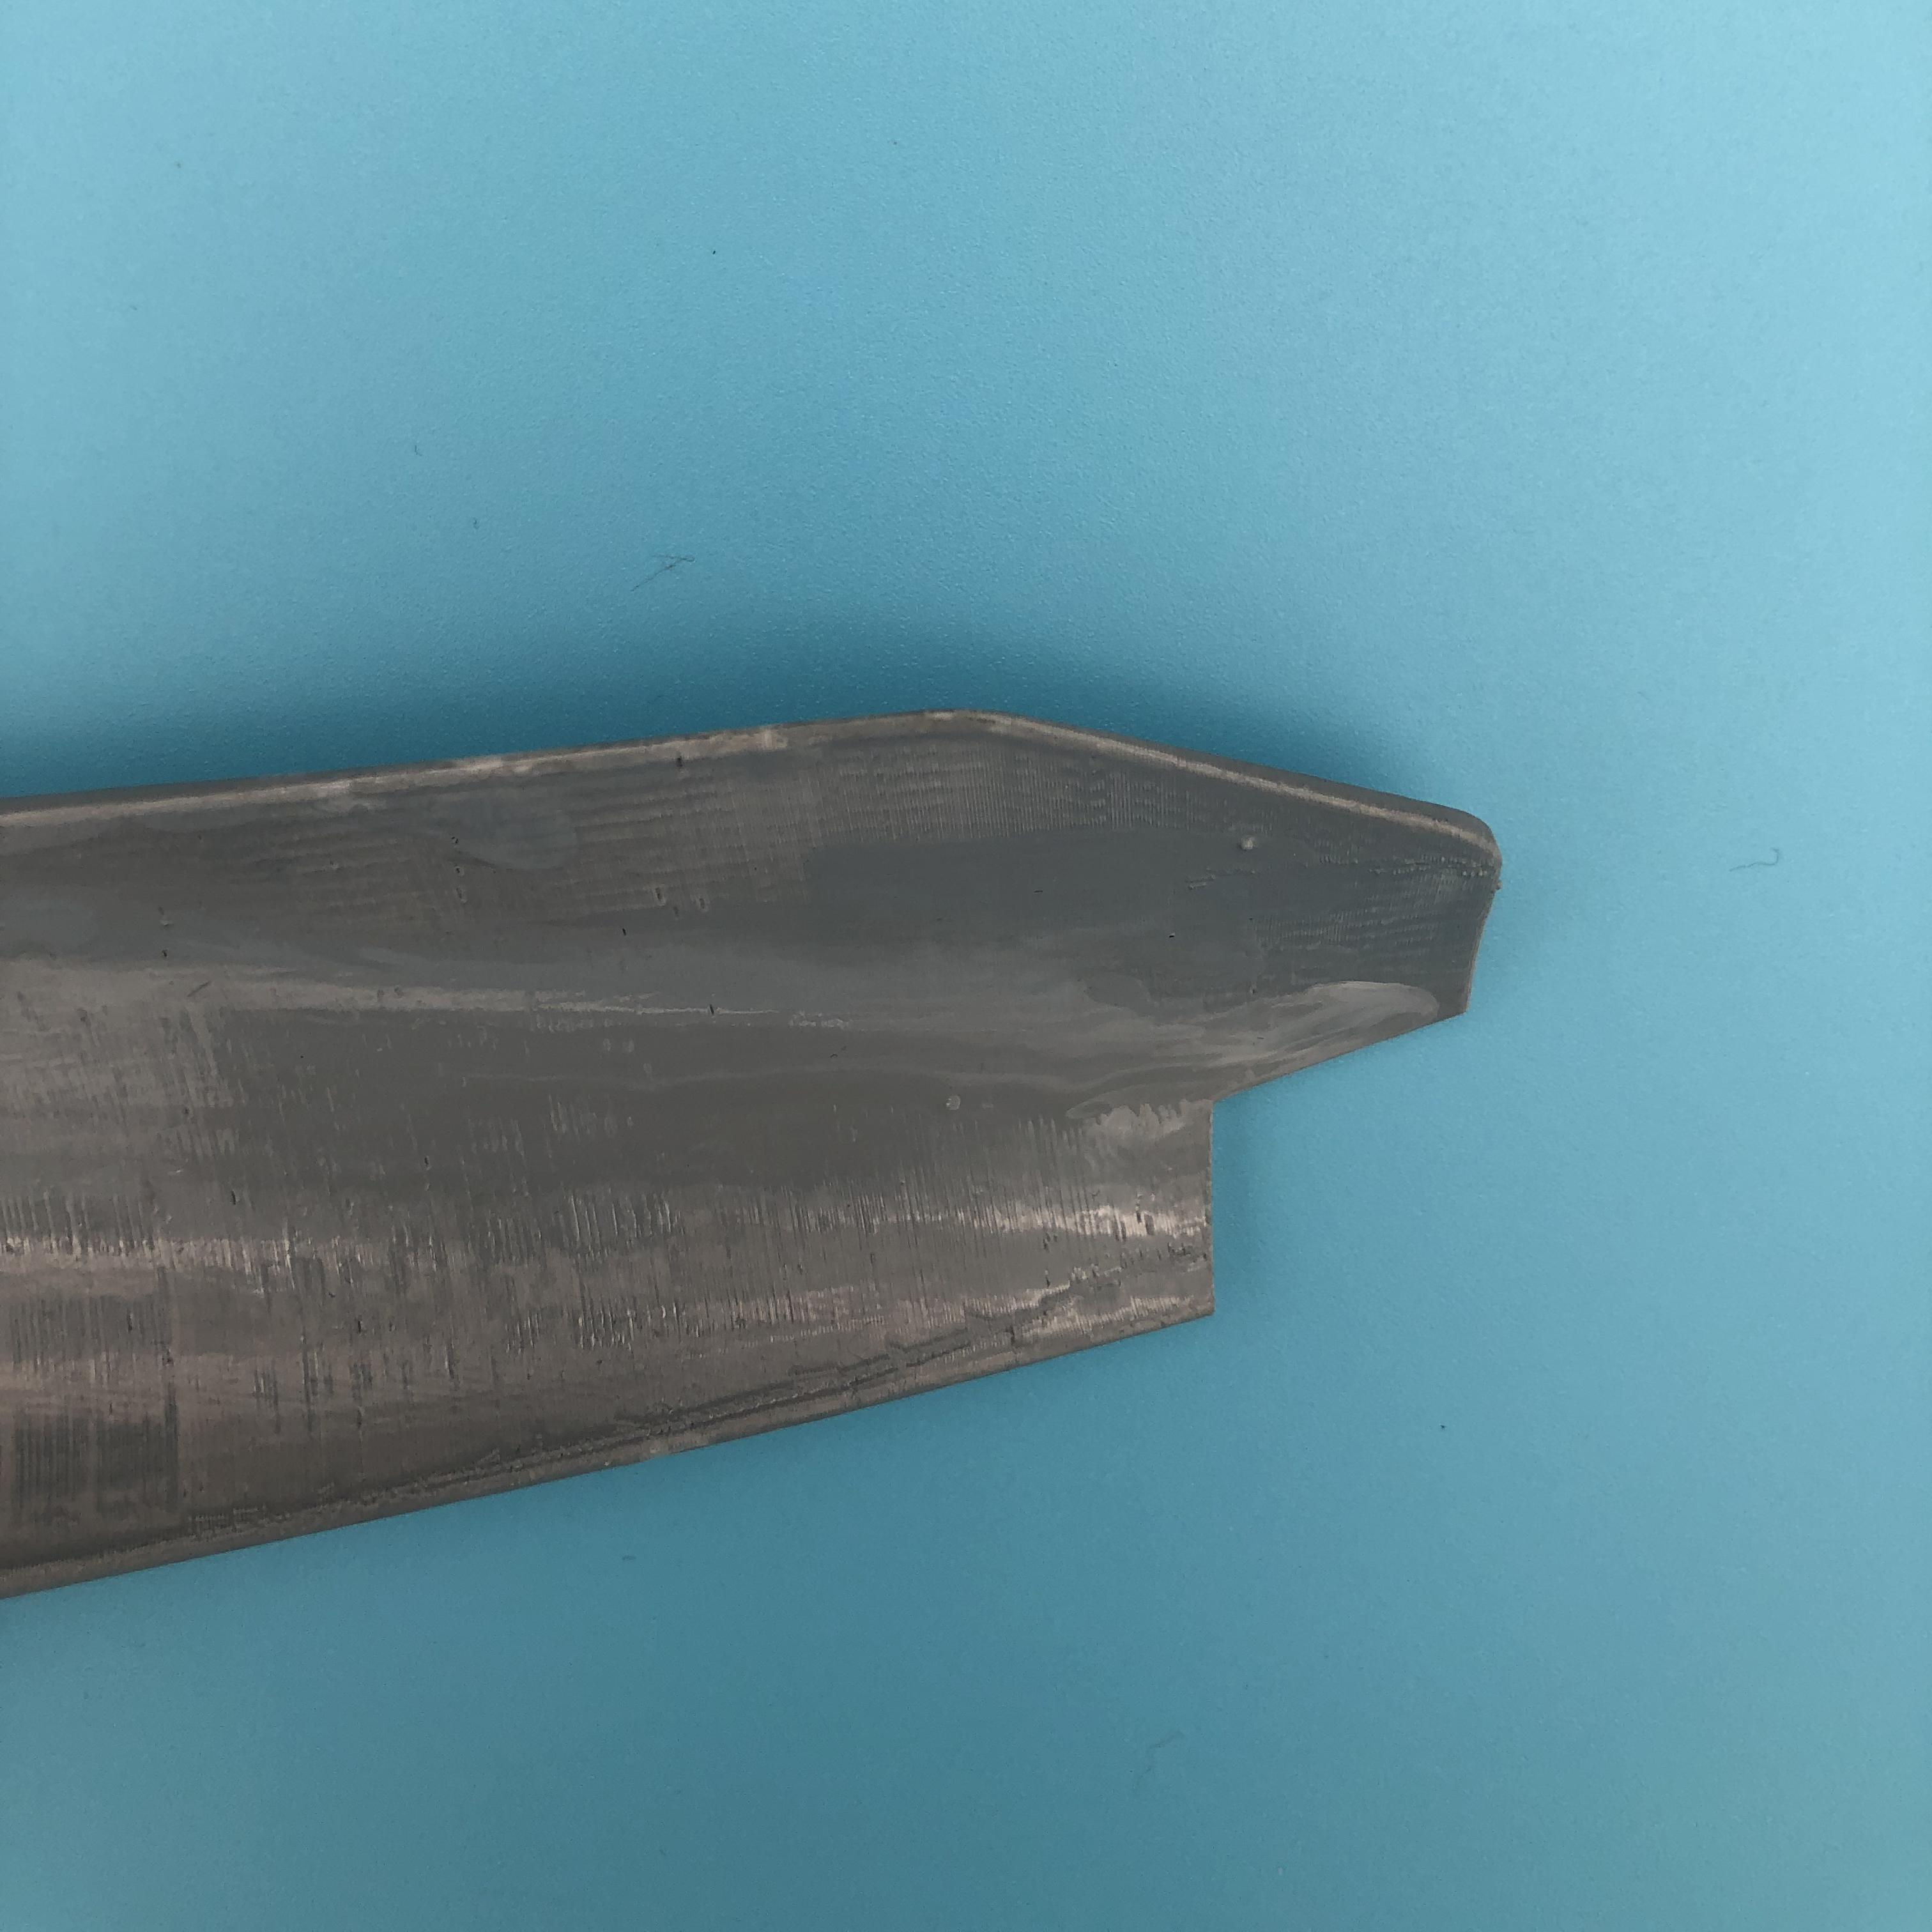fracture: (1178, 980, 1424, 1318)
